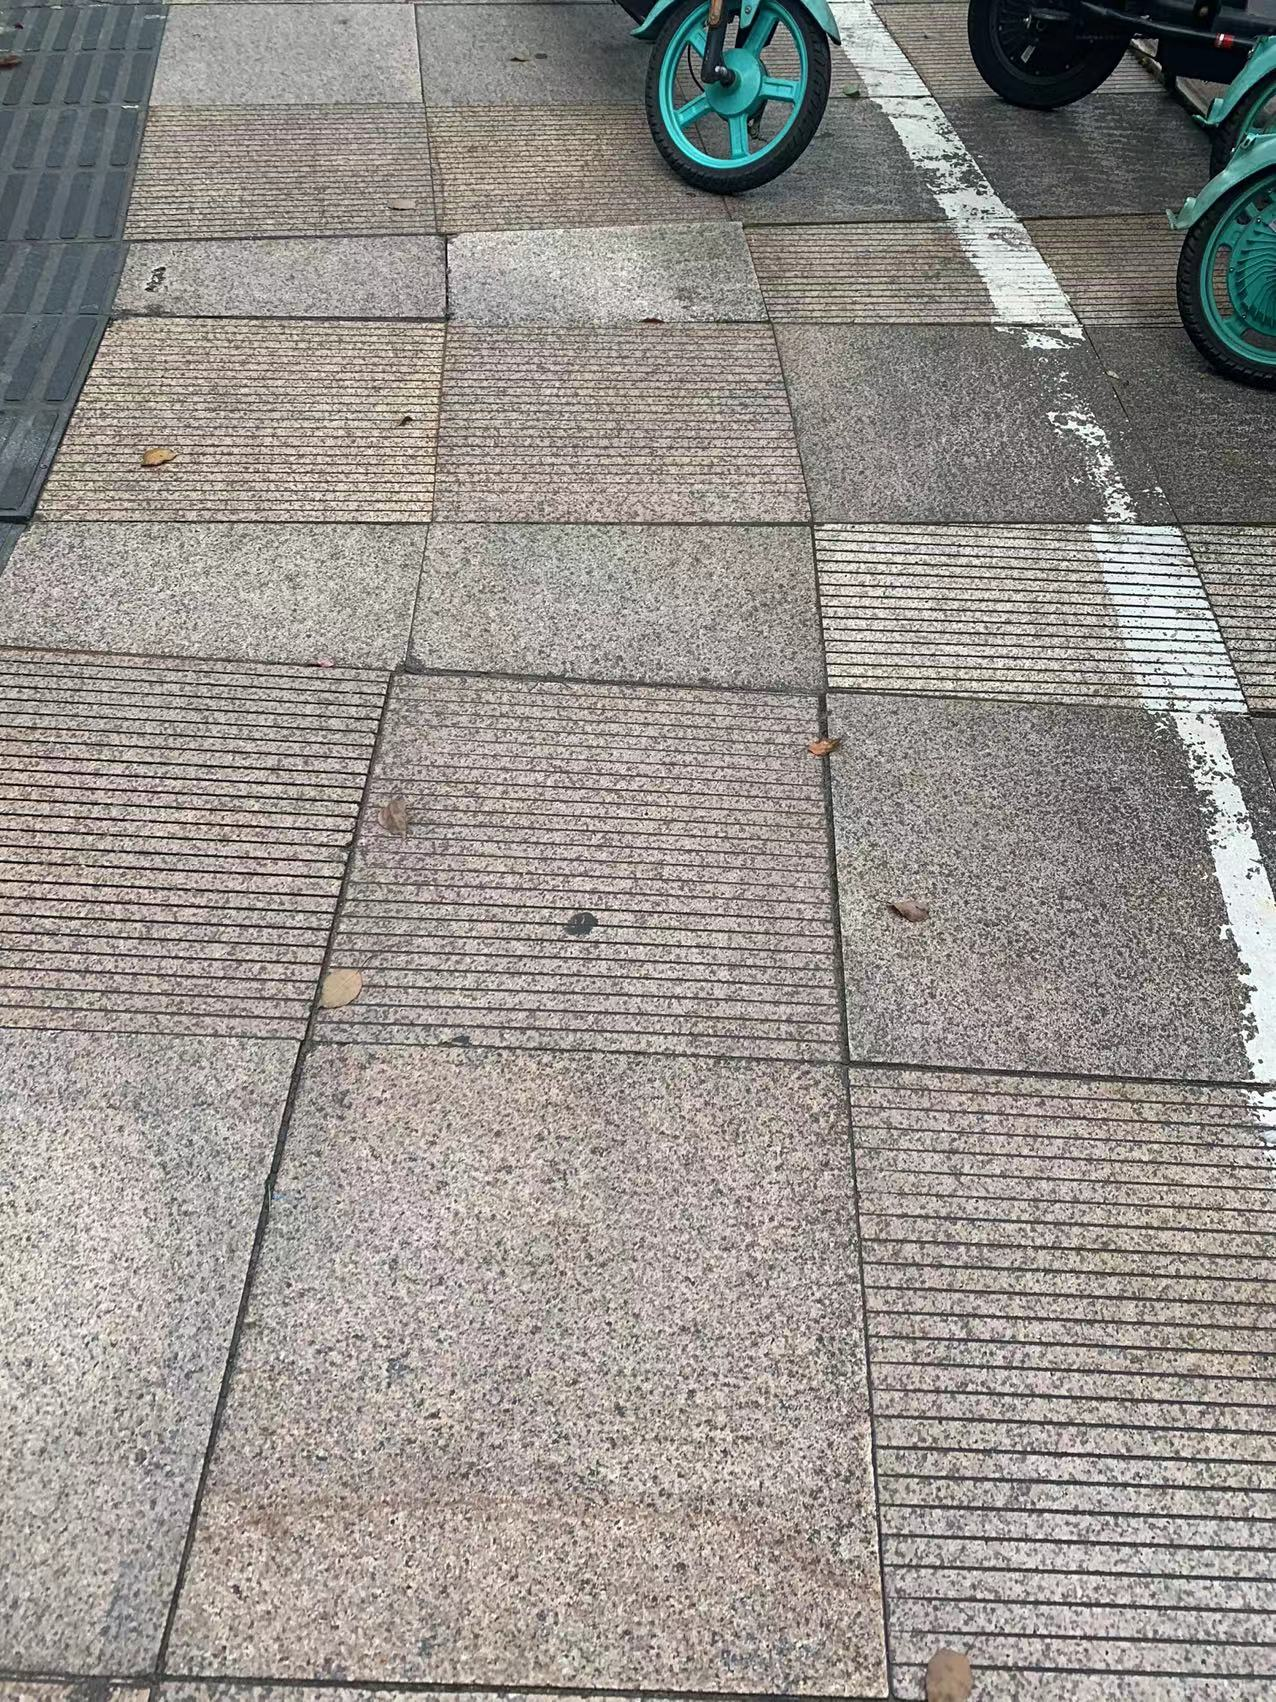leaf: (308, 953, 373, 1014), (135, 438, 184, 473), (806, 729, 842, 763)
